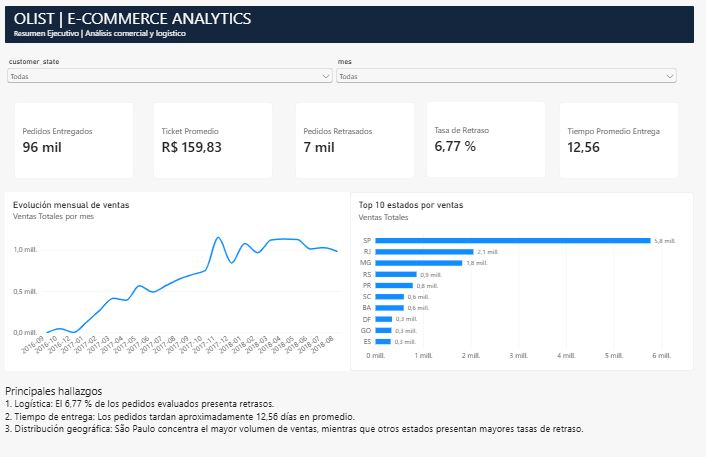

The page's visual inventory and layout, read from the dashboard file:
{"tool":"powerbi","page":{"name":"Resumen Ejecutivo","canvas":[1920,1080],"ordinal":0},"visuals":[{"type":"cardVisual","fields":{"Data":["FactOrders.Pedidos Entregados"]},"box":[277.5,257.5,240,153.3],"z":0},{"type":"cardVisual","fields":{"Data":["FactOrders.Ticket Promedio"]},"box":[556.7,258.3,240,153],"z":1000},{"type":"cardVisual","fields":{"Data":["FactOrders.Pedidos Retrasados"]},"box":[840,257.5,240,153.3],"z":2000},{"type":"cardVisual","fields":{"Data":["FactOrders.Tiempo Promedio Entrega"]},"box":[1367.5,257.5,240,153.3],"z":3000},{"type":"cardVisual","fields":{"Data":["FactOrders.Tasa de Retraso"]},"box":[1102.5,255,240,153.3],"z":4000},{"type":"lineChart","title":"Evolución mensual de ventas","fields":{"Category":["FactOrders.mes"],"Y":["FactOrders.Ventas Totales"]},"box":[260,438,690,358],"z":5000},{"type":"barChart","title":"Top 10 estados por ventas","fields":{"Category":["DimCustomers.customer_state"],"Y":["FactOrders.Ventas Totales"]},"box":[950,438,688,358],"z":6000},{"type":"slicer","fields":{"Values":["FactOrders.mes"]},"box":[917.5,167.5,690,70],"z":7000},{"type":"slicer","fields":{"Values":["DimCustomers.customer_state"]},"box":[260,167.5,660,90],"z":8000},{"type":"shape","box":[260,66,1378,74],"z":9000},{"type":"textbox","box":[278,66,1156,74],"z":10000},{"type":"textbox","box":[260,44.3,1144.3,158.6],"z":11000},{"type":"textbox","box":[260,820,1378.3,123.3],"z":12000}]}

Visuals, with their boxes on the page's 1920x1080 design canvas (x1, y1, x2, y2). These are canvas units, not pixel positions in the 706x457 screenshot, which may show the page scaled, cropped or inside an application window:
cardVisual - FactOrders.Pedidos Entregados: {"x1": 278, "y1": 258, "x2": 518, "y2": 411}
cardVisual - FactOrders.Ticket Promedio: {"x1": 557, "y1": 258, "x2": 797, "y2": 411}
cardVisual - FactOrders.Pedidos Retrasados: {"x1": 840, "y1": 258, "x2": 1080, "y2": 411}
cardVisual - FactOrders.Tiempo Promedio Entrega: {"x1": 1368, "y1": 258, "x2": 1608, "y2": 411}
cardVisual - FactOrders.Tasa de Retraso: {"x1": 1102, "y1": 255, "x2": 1342, "y2": 408}
"Evolución mensual de ventas" lineChart: {"x1": 260, "y1": 438, "x2": 950, "y2": 796}
"Top 10 estados por ventas" barChart: {"x1": 950, "y1": 438, "x2": 1638, "y2": 796}
slicer - FactOrders.mes: {"x1": 918, "y1": 168, "x2": 1608, "y2": 238}
slicer - DimCustomers.customer_state: {"x1": 260, "y1": 168, "x2": 920, "y2": 258}
shape: {"x1": 260, "y1": 66, "x2": 1638, "y2": 140}
textbox: {"x1": 278, "y1": 66, "x2": 1434, "y2": 140}
textbox: {"x1": 260, "y1": 44, "x2": 1404, "y2": 203}
textbox: {"x1": 260, "y1": 820, "x2": 1638, "y2": 943}
